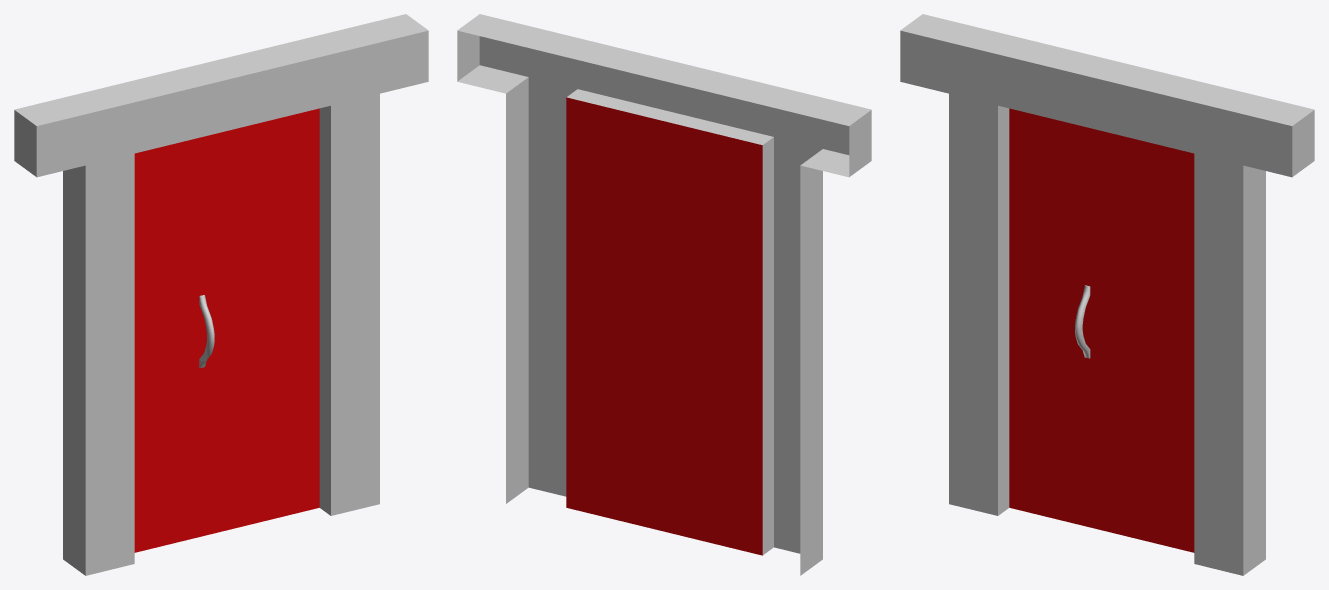
File: Door1.fbx
3 renders of one model, left to right at view 1: azimuth 30°, elevation 25°; view 2: azimuth 150°, elevation 25°; view 3: azimuth 330°, elevation 25°, orthographic.
Visible parts, largest first — view 1: Door1_LOD0, Door1_LOD0.001; view 2: Door1_LOD0.001, Door1_LOD0; view 3: Door1_LOD0, Door1_LOD0.001.
Part boxes in pixels (x1,y1,x2,y2): Door1_LOD0: (14, 14, 428, 575); Door1_LOD0.001: (134, 108, 319, 552); Door1_LOD0.001: (566, 97, 762, 555); Door1_LOD0: (457, 14, 871, 575); Door1_LOD0: (900, 14, 1314, 575); Door1_LOD0.001: (1009, 108, 1194, 552).
Size of the model in its own units: 200 by 225 by 20.24.
